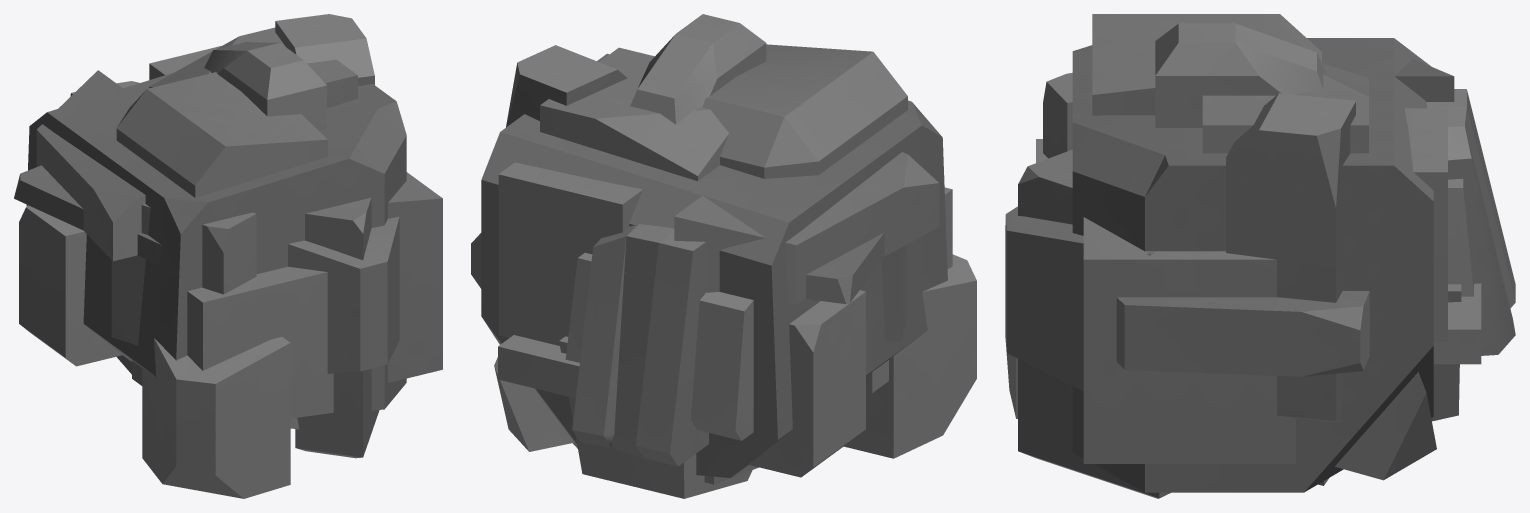
File: SM_rockSharp.fbx
The picture shows the model from 3 angles, left to right: view 1: azimuth 30°, elevation 25°; view 2: azimuth 150°, elevation 25°; view 3: azimuth 270°, elevation 25°; orthographic projection. The views are drawn at different scales.
Visible parts, largest first — view 1: SM_rockSharp; view 2: SM_rockSharp; view 3: SM_rockSharp.
Boxes of the visible parts, <box> form: SM_rockSharp: <box>14,14,442,498</box>; SM_rockSharp: <box>471,14,976,498</box>; SM_rockSharp: <box>1005,14,1515,498</box>.
Bounding box in the file's own units: 129 × 130 × 141.
1 material, 1 textured.
